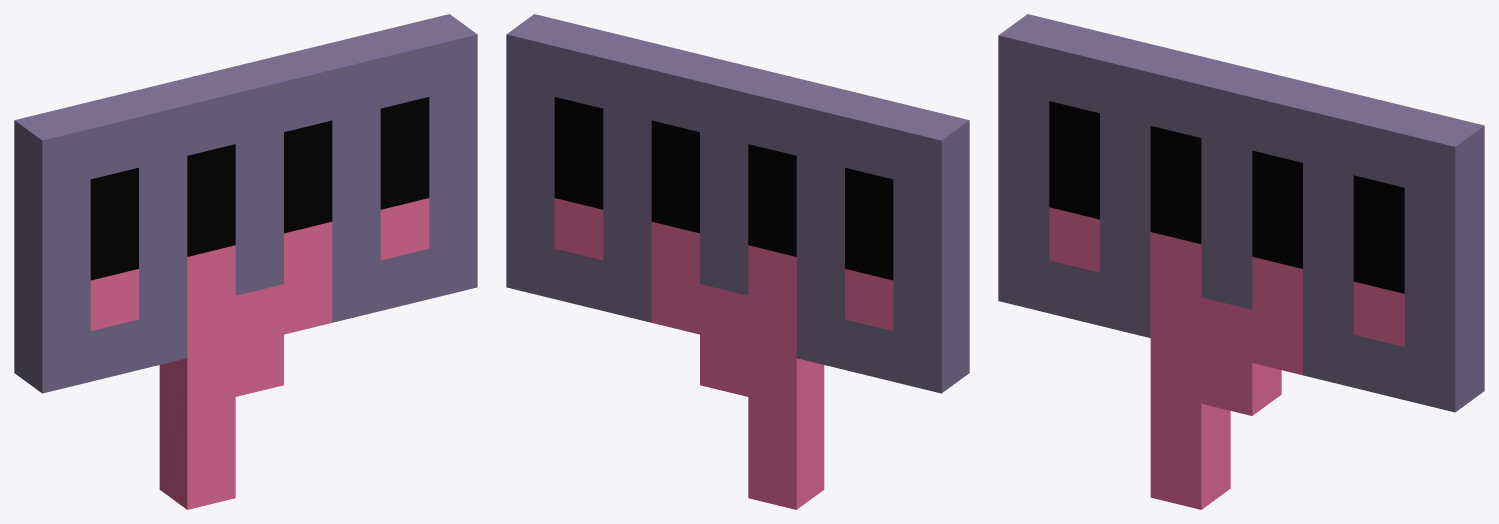
The model's file is wall_grate_a_leaking_juice.obj.
The picture shows the model from 3 angles, left to right: view 1: azimuth 30°, elevation 25°; view 2: azimuth 150°, elevation 25°; view 3: azimuth 330°, elevation 25°; orthographic projection. The views are drawn at different scales.
Bounding box in the file's own units: 0.9 × 0.8 × 0.1.
1 material, 1 textured.
